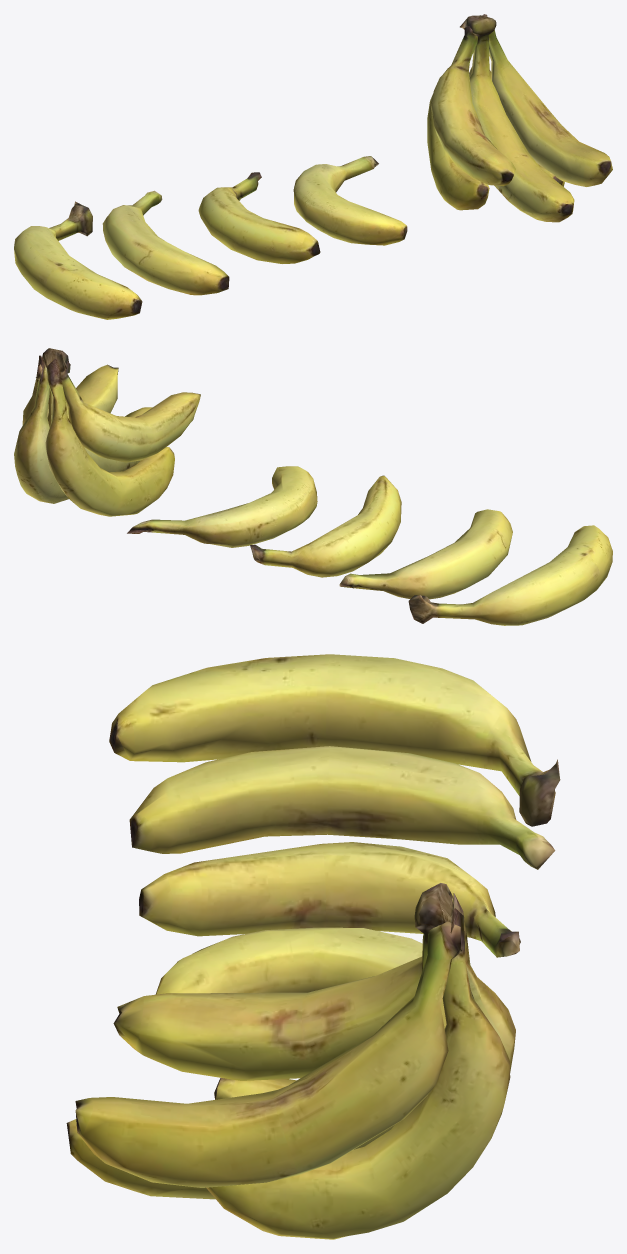
File: bananas.glb
3 views of the same model, one above another, from view 1: azimuth 30°, elevation 25°; view 2: azimuth 150°, elevation 25°; view 3: azimuth 270°, elevation 25° (orthographic). The views are drawn at different scales.
Visible parts, largest first — view 1: bananas_bunch, bananas_d, bananas_c, bananas_a, bananas_b; view 2: bananas_bunch, bananas_d, bananas_c, bananas_a, bananas_b; view 3: bananas_bunch, bananas_d, bananas_c, bananas_b, bananas_a.
Part boxes in pixels (box(x1,y1,x2,y2)): bananas_bunch: box(427, 14, 612, 222); bananas_d: box(14, 201, 142, 319); bananas_c: box(102, 190, 229, 295); bananas_a: box(293, 156, 407, 245); bananas_b: box(198, 172, 320, 263); bananas_bunch: box(14, 348, 200, 516); bananas_d: box(408, 525, 612, 625); bananas_c: box(339, 509, 512, 599); bananas_a: box(127, 466, 317, 547); bananas_b: box(250, 475, 401, 577); bananas_bunch: box(66, 883, 515, 1239); bananas_d: box(109, 654, 560, 826); bananas_c: box(129, 746, 555, 869); bananas_b: box(139, 842, 520, 957); bananas_a: box(155, 927, 422, 994).
Size of the model in its own units: 0.5996 by 0.1786 by 0.2438.
Materials: 1 (1 with a texture image).
